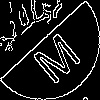M: (25, 25, 84, 86)
